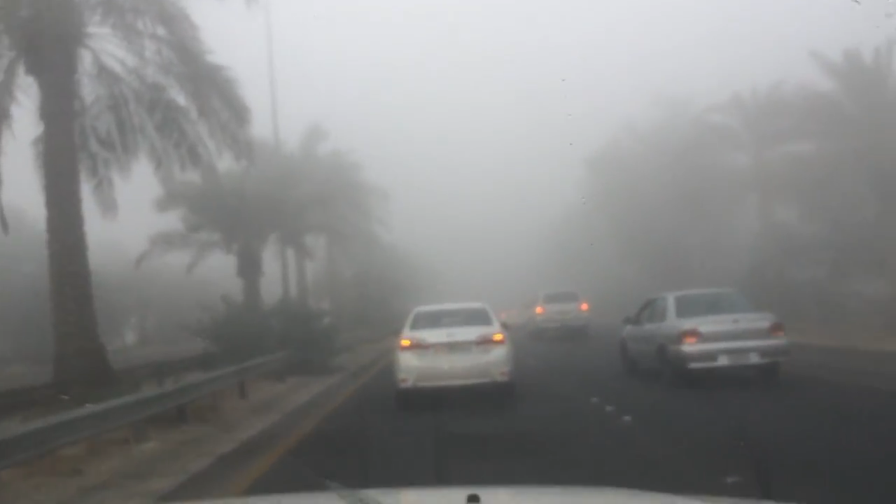car: (618, 287, 792, 385), (392, 301, 514, 402), (533, 289, 591, 333)
